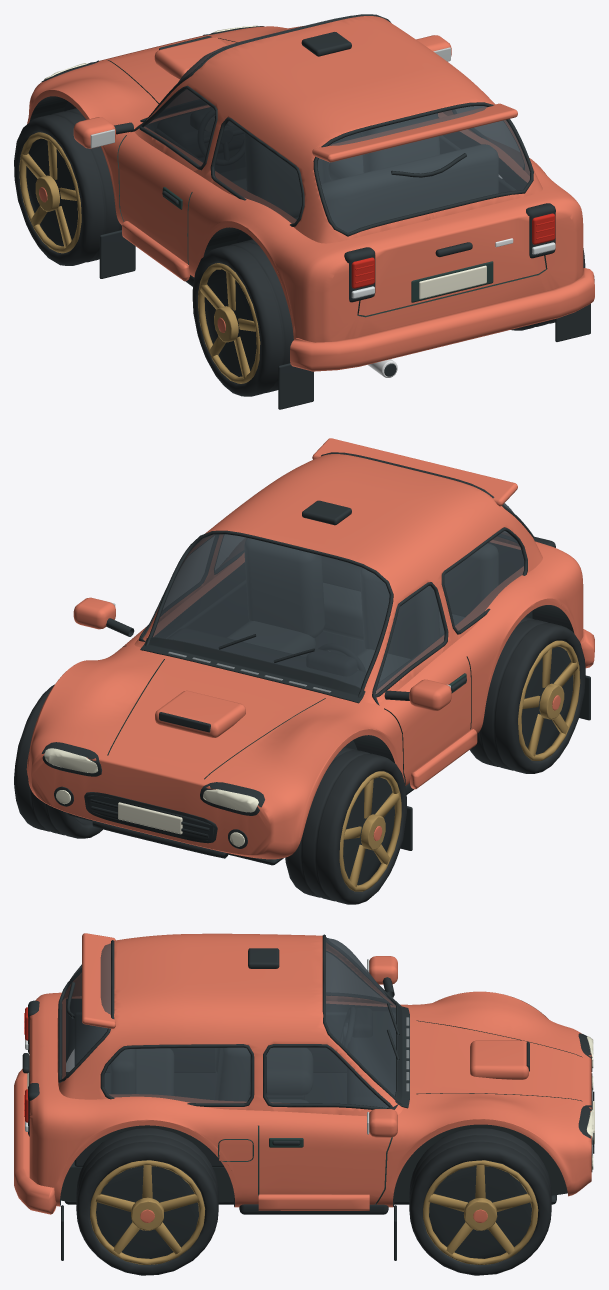
The model's file is kitsune_lod1.fbx.
3 views of the same model, one above another, from view 1: azimuth 30°, elevation 25°; view 2: azimuth 150°, elevation 25°; view 3: azimuth 270°, elevation 25° (orthographic). The views are drawn at different scales.
Visible parts, largest first — view 1: Body, Wheel_RL_Mesh, Wheel_FL_Mesh; view 2: Body, Wheel_FL_Mesh, Wheel_RL_Mesh, Wheel_FR_Mesh; view 3: Body, Wheel_FR_Mesh, Wheel_RR_Mesh.
Part boxes in pixels (x1,y1,x2,y2): Body: (27,14,594,409); Wheel_RL_Mesh: (192,239,293,396); Wheel_FL_Mesh: (14,108,121,265); Body: (26,438,594,865); Wheel_FL_Mesh: (285,747,406,904); Wheel_RL_Mesh: (470,617,585,773); Wheel_FR_Mesh: (14,684,102,838); Body: (14,933,594,1260); Wheel_FR_Mesh: (409,1128,551,1275); Wheel_RR_Mesh: (76,1128,218,1275).
Size of the model in its own units: 229 by 159 by 335.
